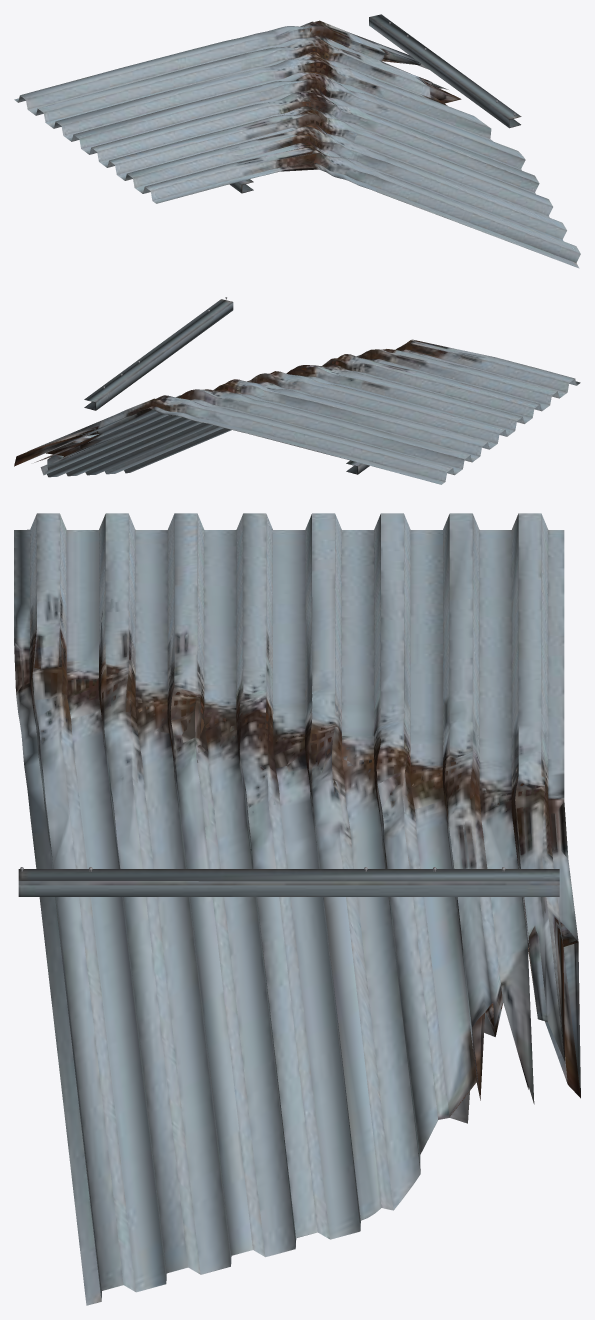
File: industrial_facility_panel_lod1.glb
3 renders of one model, top to bottom at view 1: azimuth 30°, elevation 25°; view 2: azimuth 150°, elevation 25°; view 3: azimuth 270°, elevation 25°, orthographic. The views are drawn at different scales.
Visible parts, largest first — view 1: industrial_facility_panel_paint; view 2: industrial_facility_panel_paint; view 3: industrial_facility_panel_paint.
Part boxes in pixels (x1,y1,x2,y2): industrial_facility_panel_paint: (14, 14, 580, 268); industrial_facility_panel_paint: (14, 299, 580, 484); industrial_facility_panel_paint: (14, 513, 580, 1305).
Size of the model in its own units: 2.23 by 0.9285 by 1.24.
Materials: 2 (1 with a texture image).
